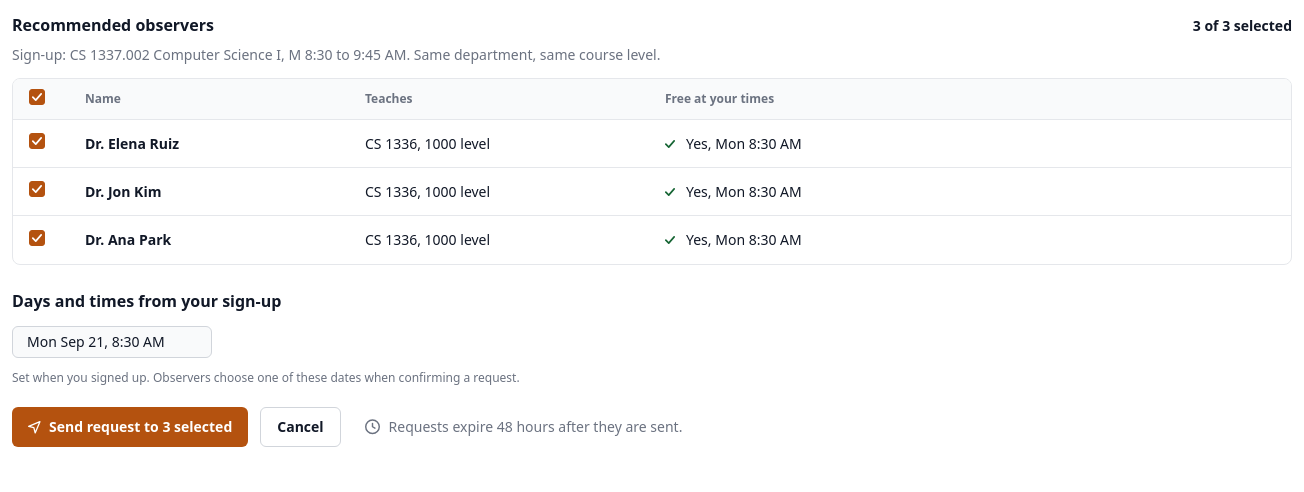
it: selects every open candidate at first and counts individual and select-all changes
Expected: the text "3 of 3 selected" is shown, [1193,16,1292,36]
Expected: the checkbox named "Select all" is checked, [29,89,45,105]
Click the checkbox named "Dr. Jon Kim". click: (37, 189)
box: [29,181,45,197]
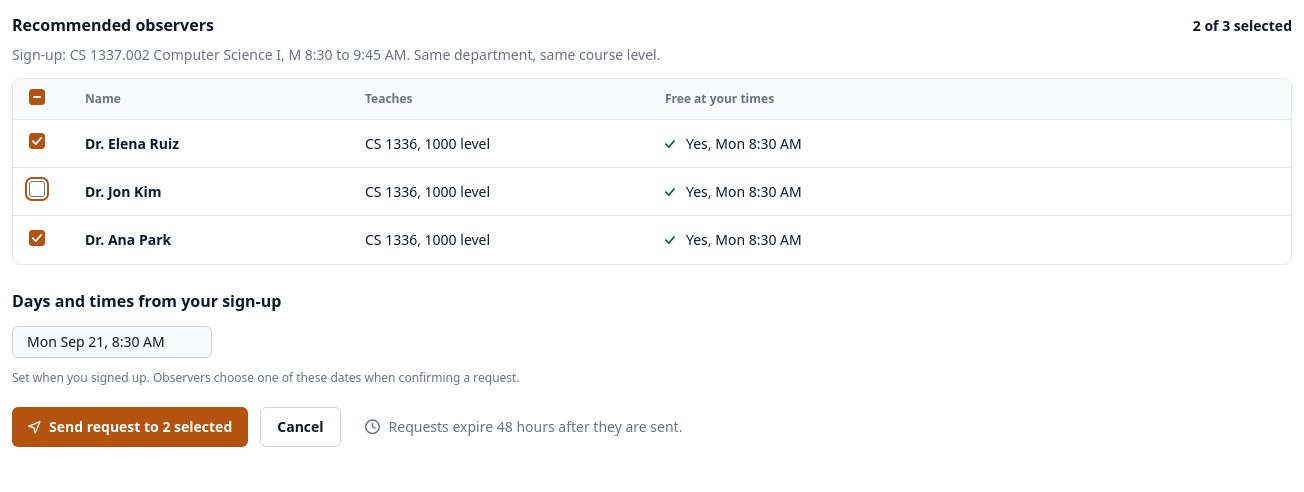
Expected: the text "2 of 3 selected" is shown, [1193,16,1292,36]
Expected: the button "Send request to 2 selected" is shown, [12,407,248,447]
Click the checkbox named "Select all". click: (37, 97)
box: [29,89,45,105]
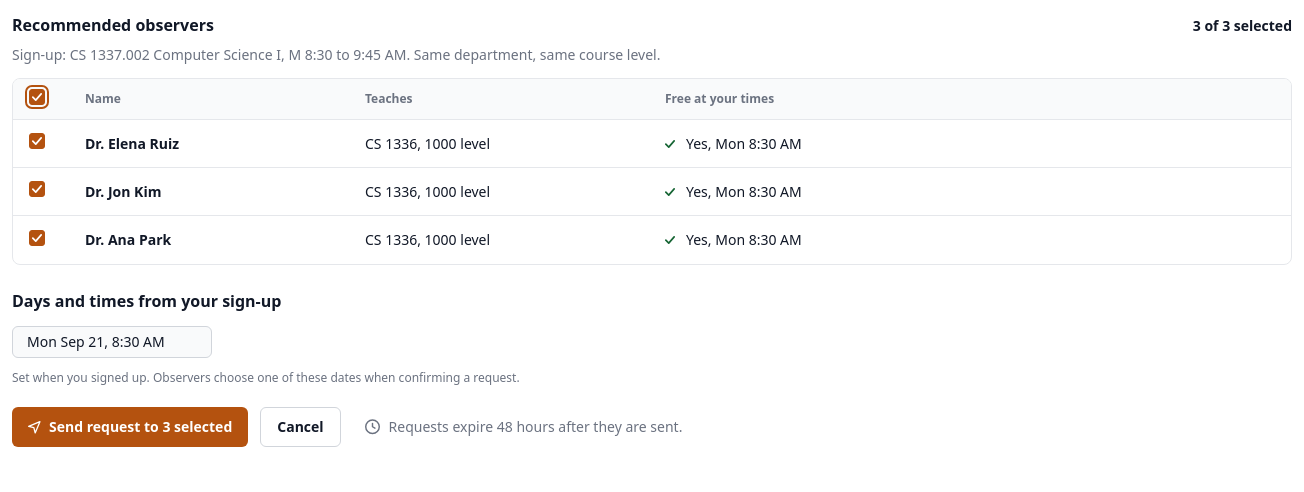
Expected: the text "3 of 3 selected" is shown, [1193,16,1292,36]
Click the checkbox named "Select all". click: (37, 97)
box: [29,89,45,105]
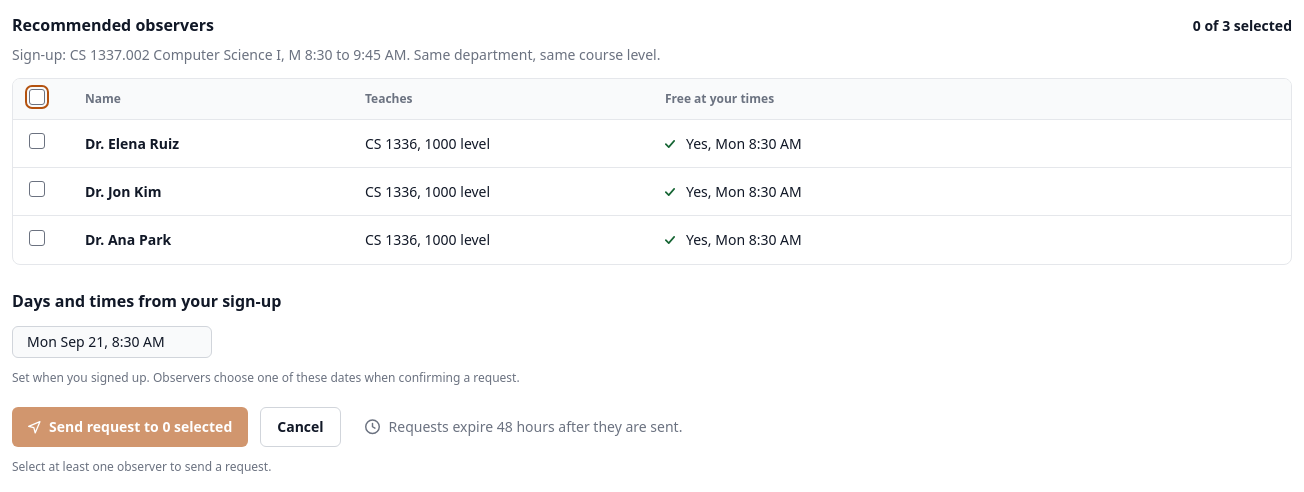
Expected: the text "0 of 3 selected" is shown, [1193,16,1292,36]
Expected: the button "Send request to 0 selected" is disabled, [12,407,248,447]
Expected: the text "Select at least one observer to send a request." is shown, [12,458,271,475]
